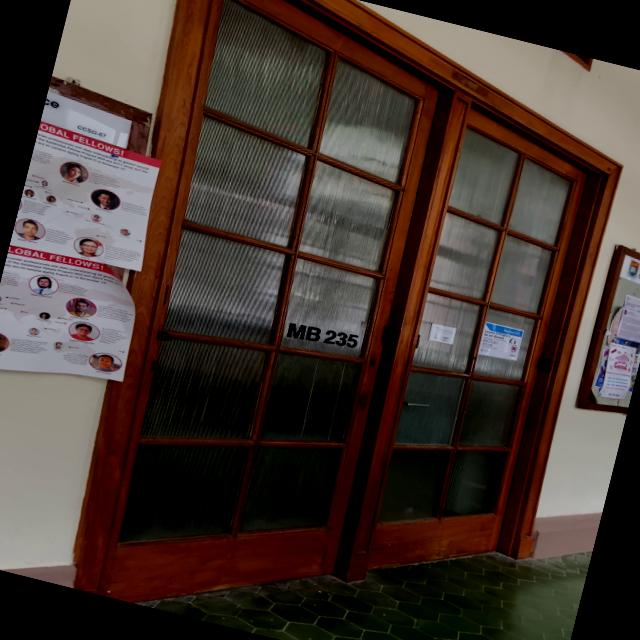room235Window: (282, 317, 361, 356)
